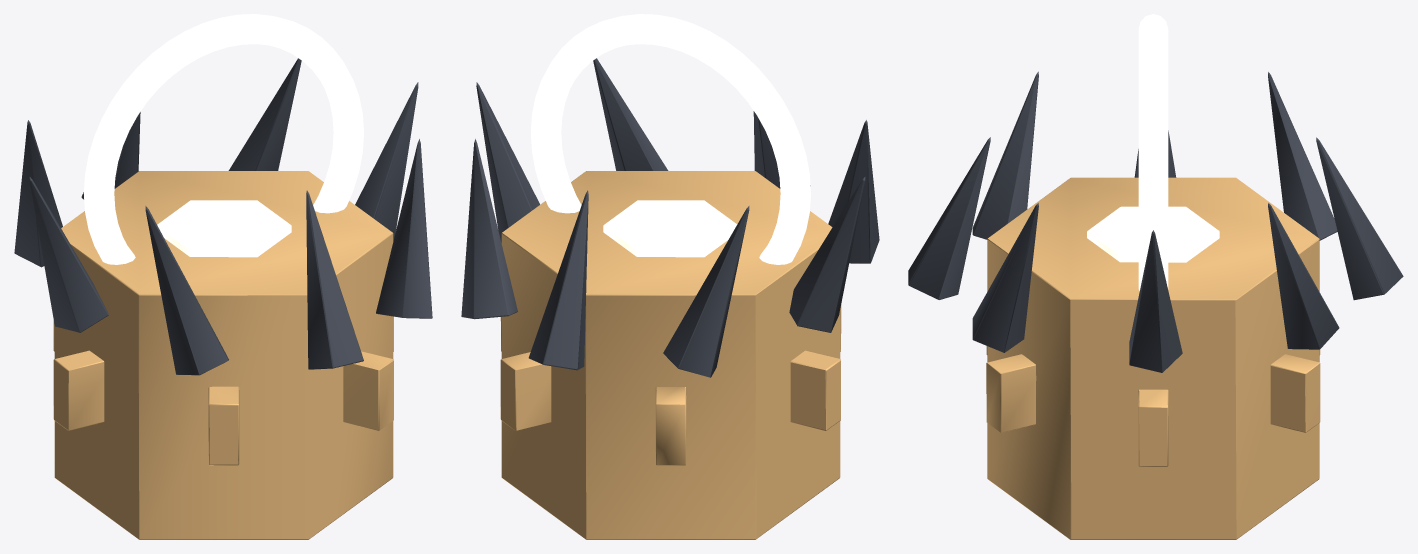
The model's file is SM_Boss_Thermalquelle_LOD1.fbx.
The picture shows the model from 3 angles, left to right: view 1: azimuth 30°, elevation 25°; view 2: azimuth 150°, elevation 25°; view 3: azimuth 270°, elevation 25°; orthographic projection.
Visible parts, largest first — view 1: SM_Boss_Thermalquelle_LOD1; view 2: SM_Boss_Thermalquelle_LOD1; view 3: SM_Boss_Thermalquelle_LOD1.
Boxes of the visible parts, left/top/right/bottom form: SM_Boss_Thermalquelle_LOD1: left=14, top=14, right=432, bottom=539; SM_Boss_Thermalquelle_LOD1: left=461, top=14, right=879, bottom=539; SM_Boss_Thermalquelle_LOD1: left=908, top=14, right=1403, bottom=539.
Bounding box in the file's own units: 3.53 × 4.05 × 3.97.
